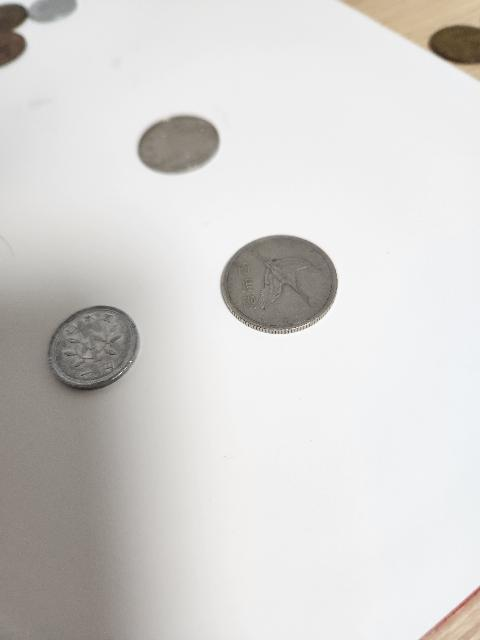coin: (220, 227, 338, 333), (48, 301, 142, 391), (139, 110, 217, 172)
